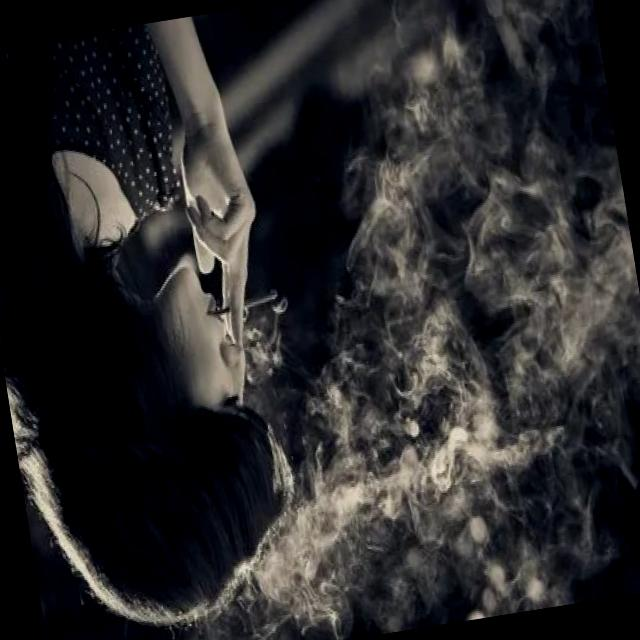smoke: (202, 282, 282, 326)
